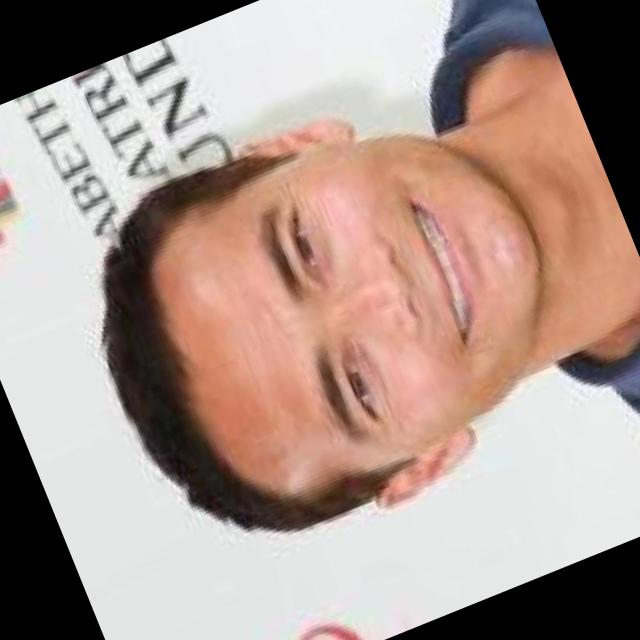bareface: (104, 84, 590, 572)
